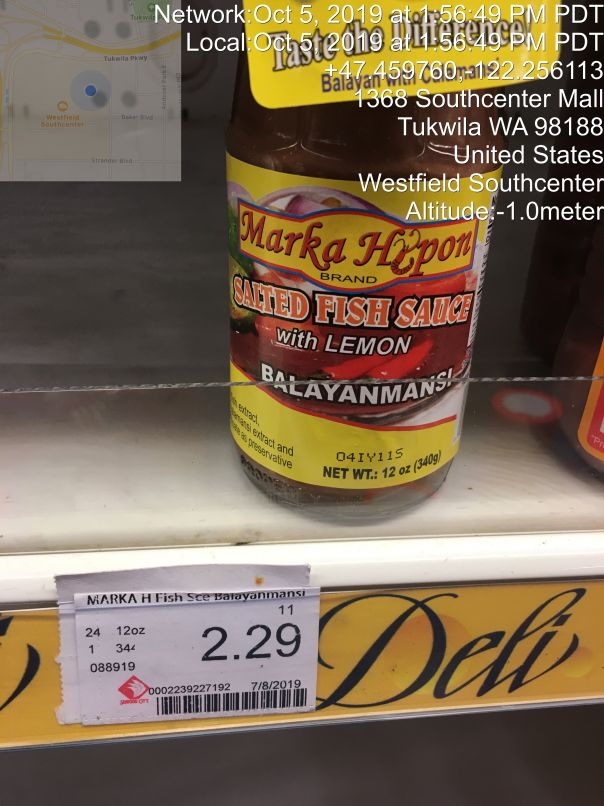Label: (40, 558, 361, 737)
Location: (348, 82, 604, 196)
Mark h fish: (208, 84, 486, 504)
Time: (138, 3, 604, 61)
